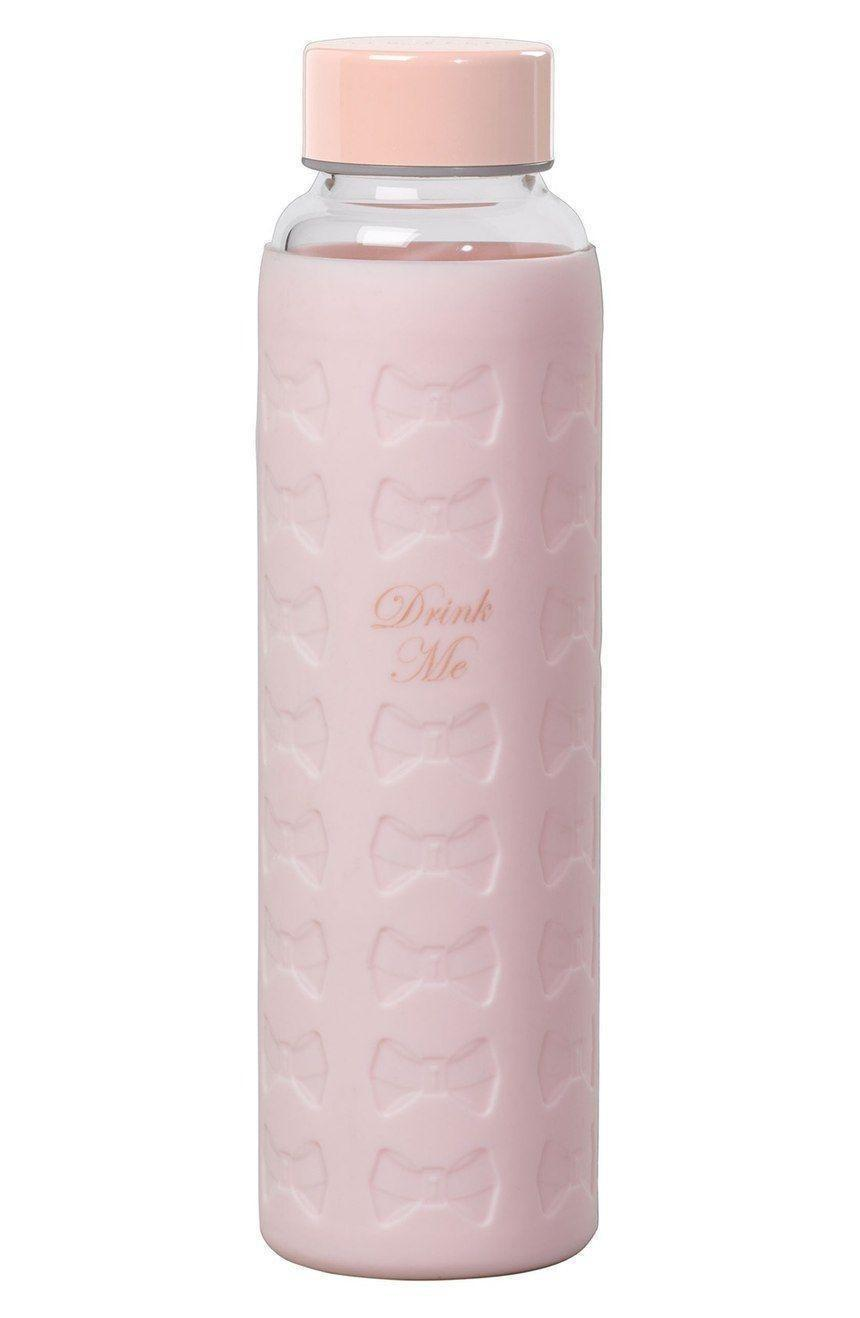gym bottle: (244, 23, 610, 1283)
